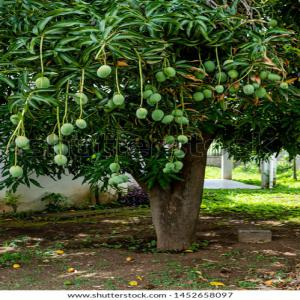Tree: (6, 4, 294, 255)
